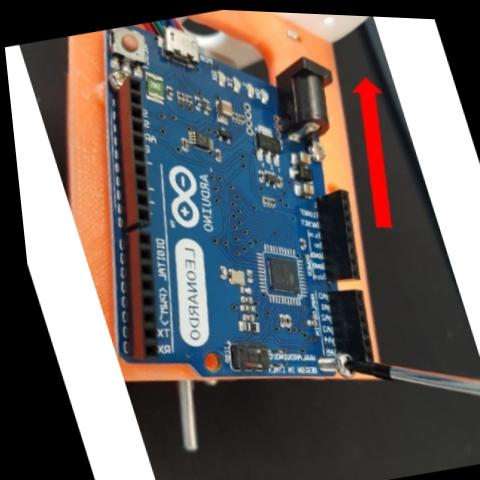Arduino-Leonardo: (14, 0, 421, 422)
